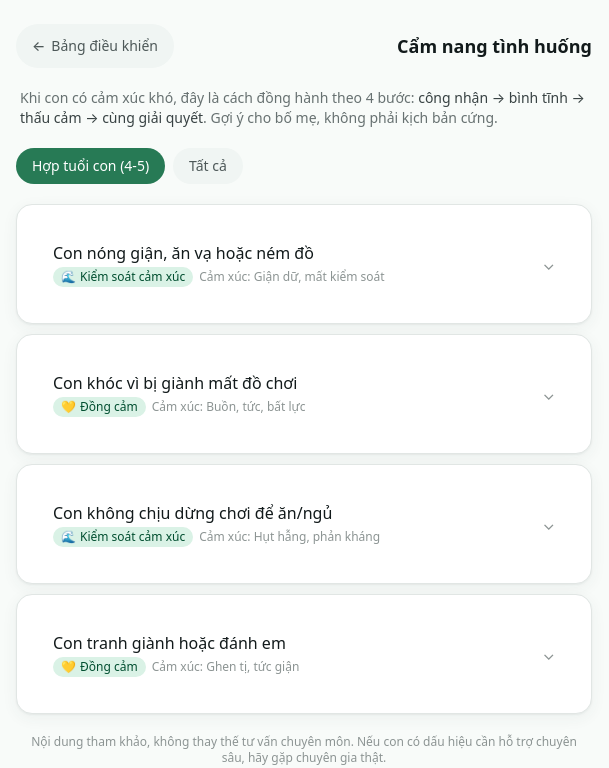
ParentSituations › defaults to the child band and hides out-of-band scenarios until "Tất cả"
The image size is (609, 768).
Expected: the text "Con khóc vì bị giành mất đồ chơi" is shown, [53, 371, 305, 395]
Expected: the text "con ghét bố/mẹ" is not shown
Click the button "Tất cả".
click(208, 166)  # box [173, 148, 243, 184]
(page scrolled)
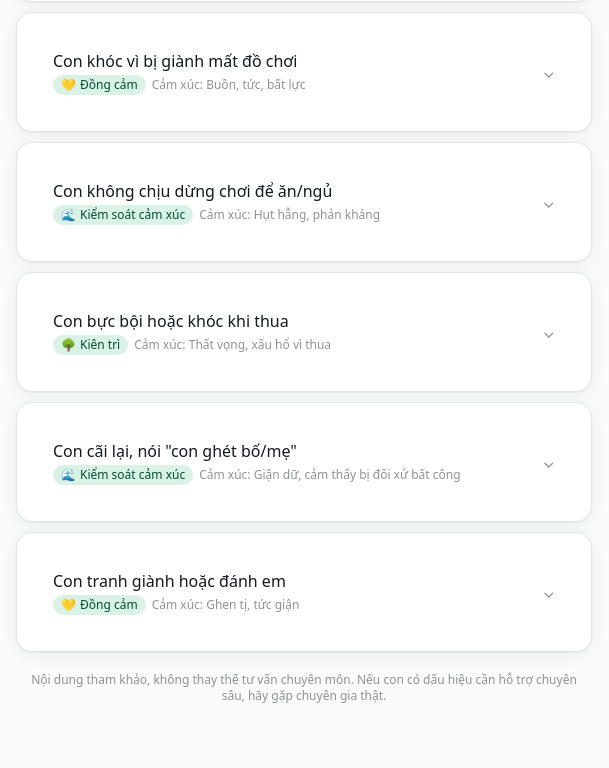
Now the text "Con cãi lại, nói \"con ghét bố/mẹ\"" is shown, box [53, 440, 297, 462]
